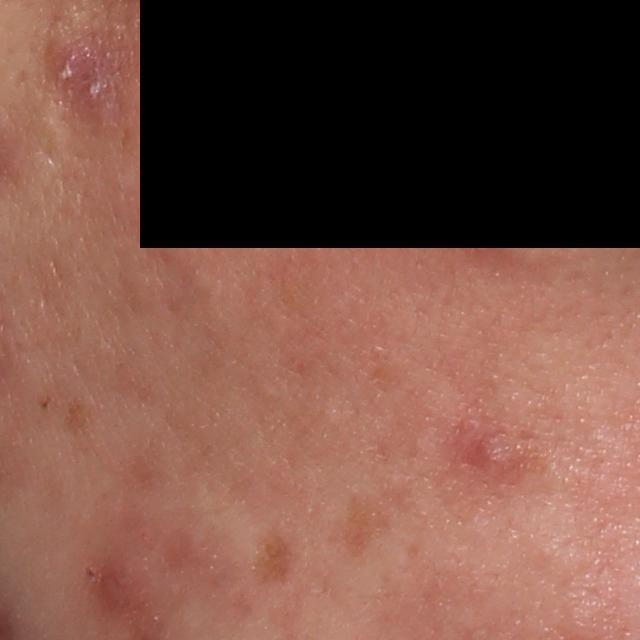papule: (87, 560, 146, 626), (468, 429, 519, 478)
